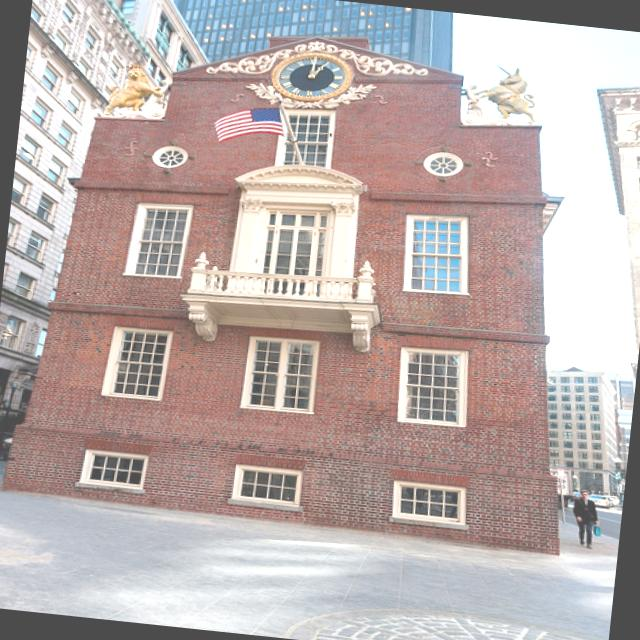Vehicle: (588, 494, 614, 510), (1, 436, 12, 460)
